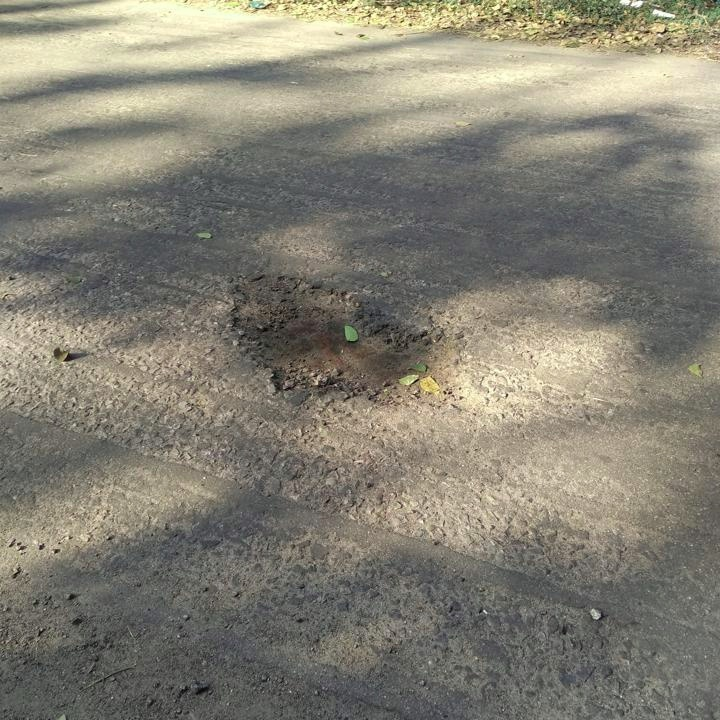pothole: (219, 269, 468, 413)
